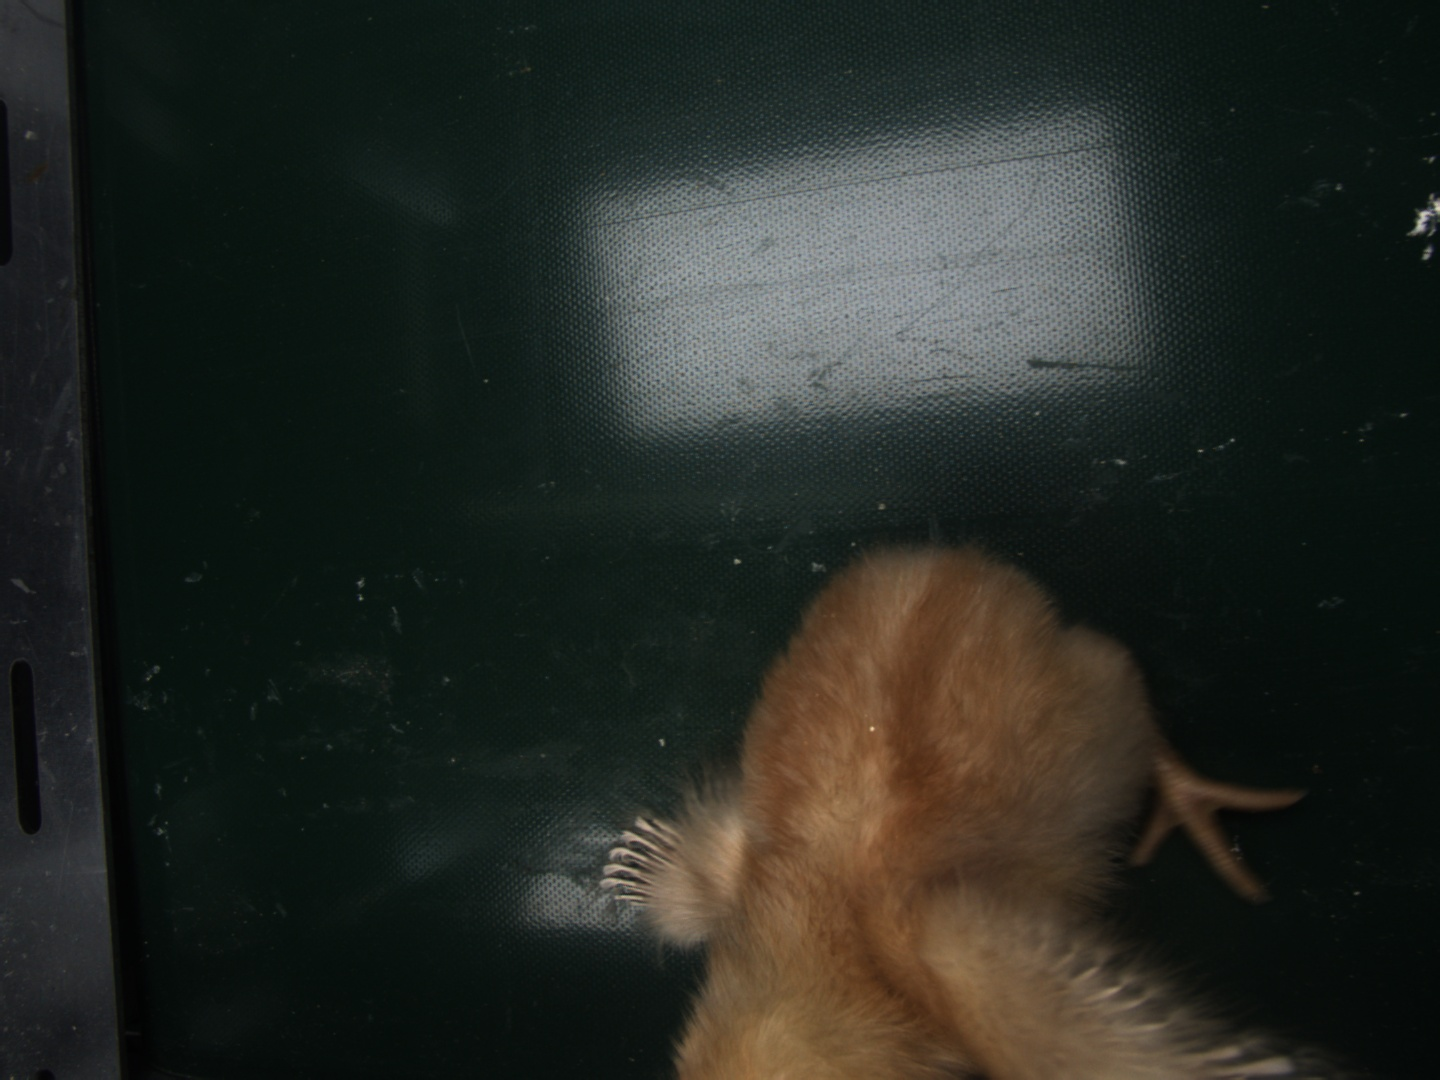female: (602, 816, 686, 906)
